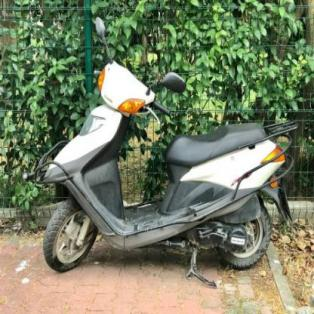Motocicleta: (41, 10, 296, 276)
